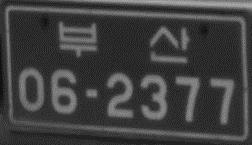-: (82, 85, 101, 102)
0: (18, 65, 45, 113)
2: (104, 71, 134, 121)
3: (138, 72, 168, 120)
6: (48, 66, 79, 116)
7: (207, 76, 238, 126), (174, 73, 201, 122)
부산_D: (56, 17, 190, 64)
